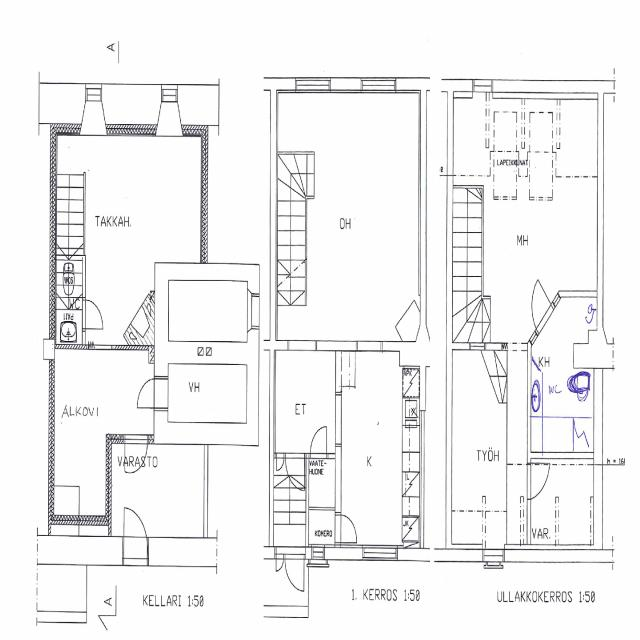door: (522, 279, 554, 332), (124, 518, 148, 565), (125, 434, 147, 482), (526, 464, 552, 499), (137, 378, 168, 407), (285, 553, 304, 591), (285, 453, 304, 488), (82, 298, 103, 328), (335, 515, 357, 542), (310, 427, 326, 458), (276, 553, 284, 572), (277, 453, 284, 469)
